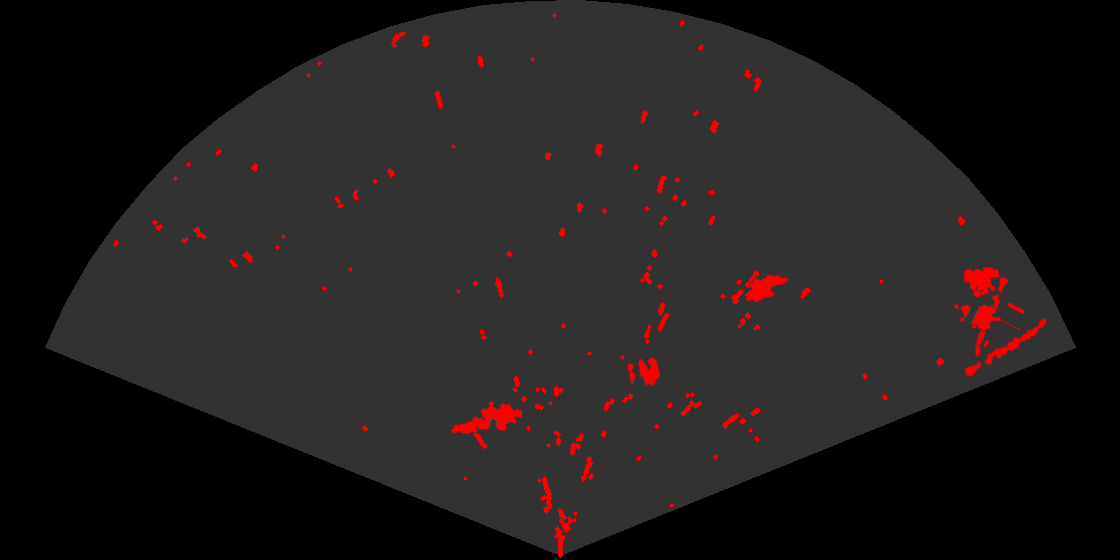AUV: (743, 273, 790, 304)
ball: (626, 356, 662, 387)
cage: (953, 265, 1024, 347)
chain: (963, 317, 1049, 378), (973, 269, 1010, 358)
frogman: (449, 399, 522, 435)
